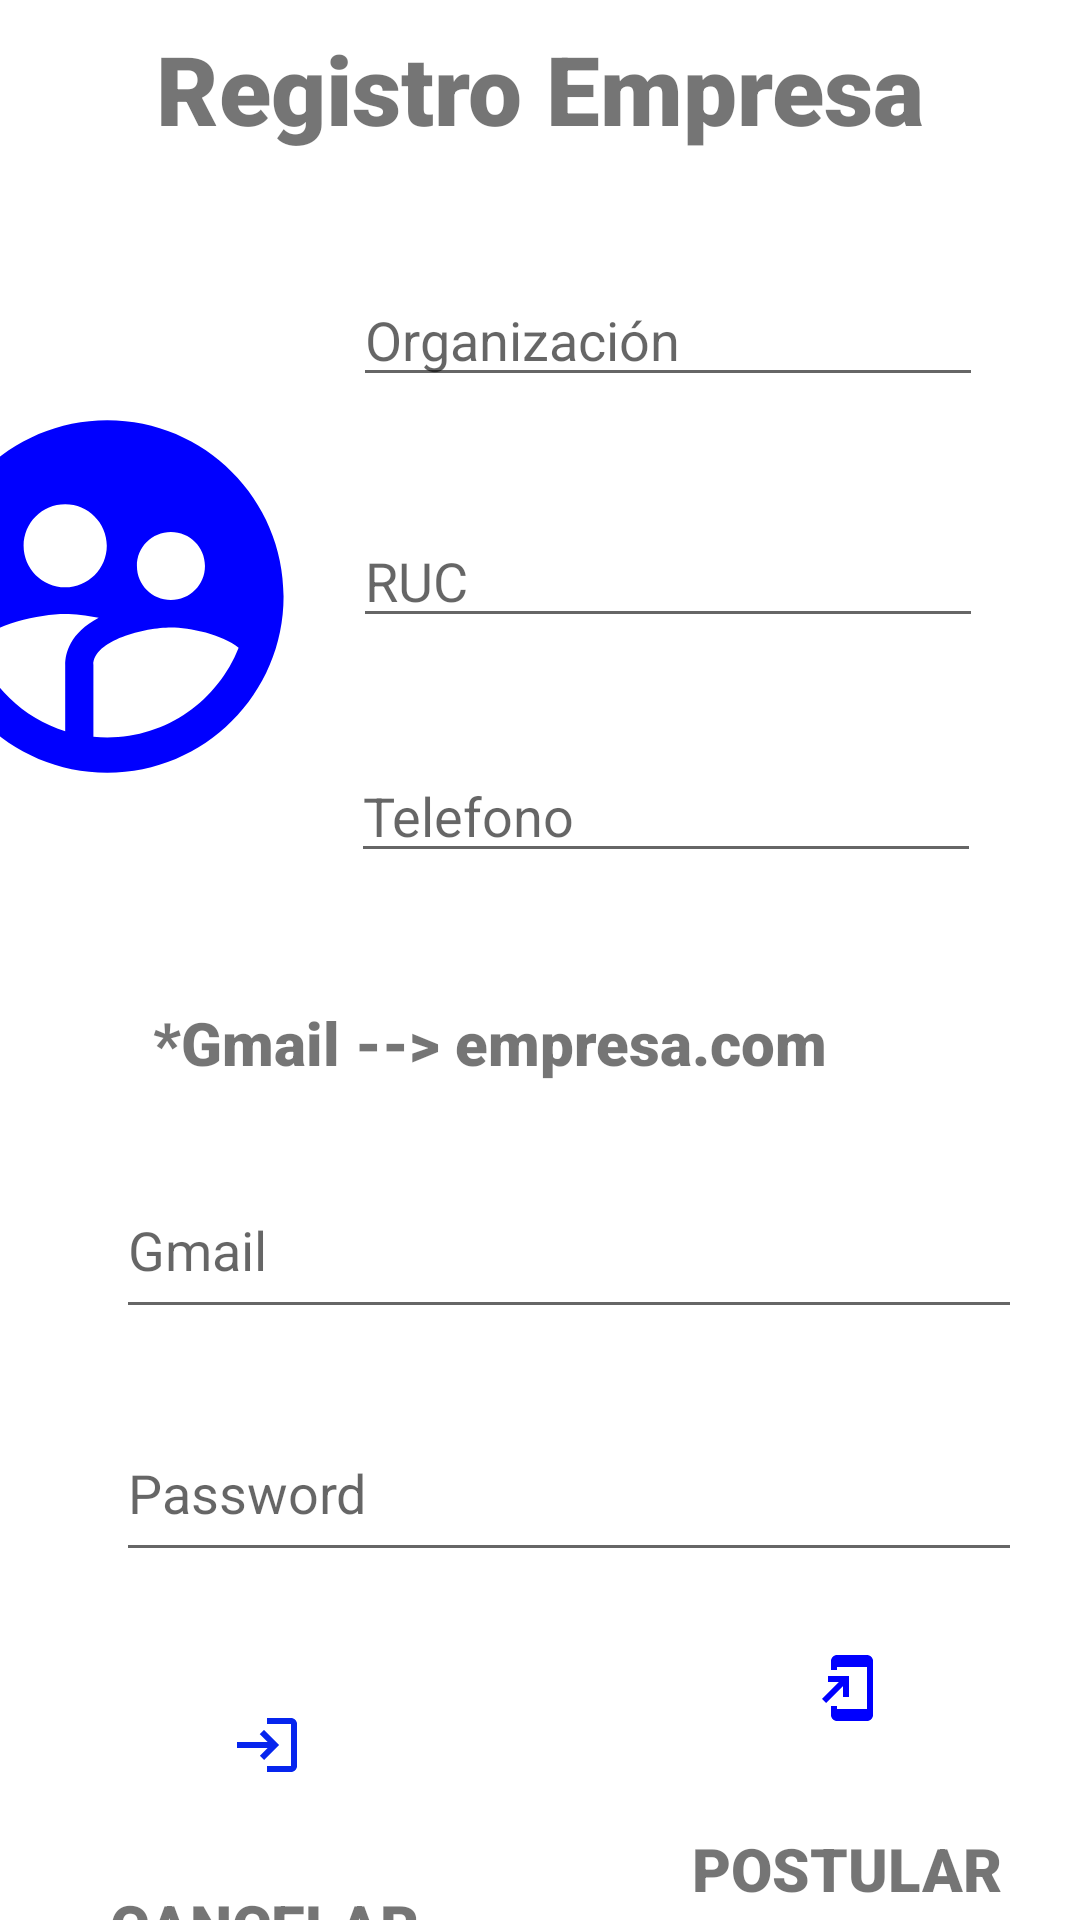

Locate icon controls on the screen. Image size 1080 × 1920, boxes as [x1=x1, y1=y1, x2=x2, y2=y2].
add to home screen: [x1=822, y1=1655, x2=873, y2=1721]
login: [x1=237, y1=1718, x2=297, y2=1772]
